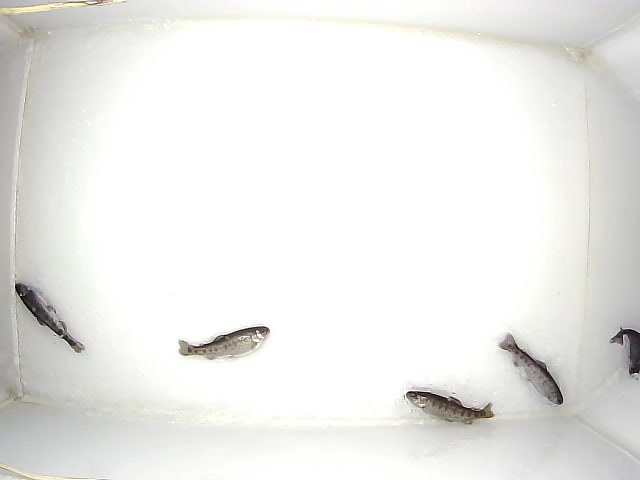fish: (14, 282, 85, 353), (498, 332, 563, 405), (178, 326, 270, 360), (406, 391, 496, 425), (609, 326, 640, 375)
